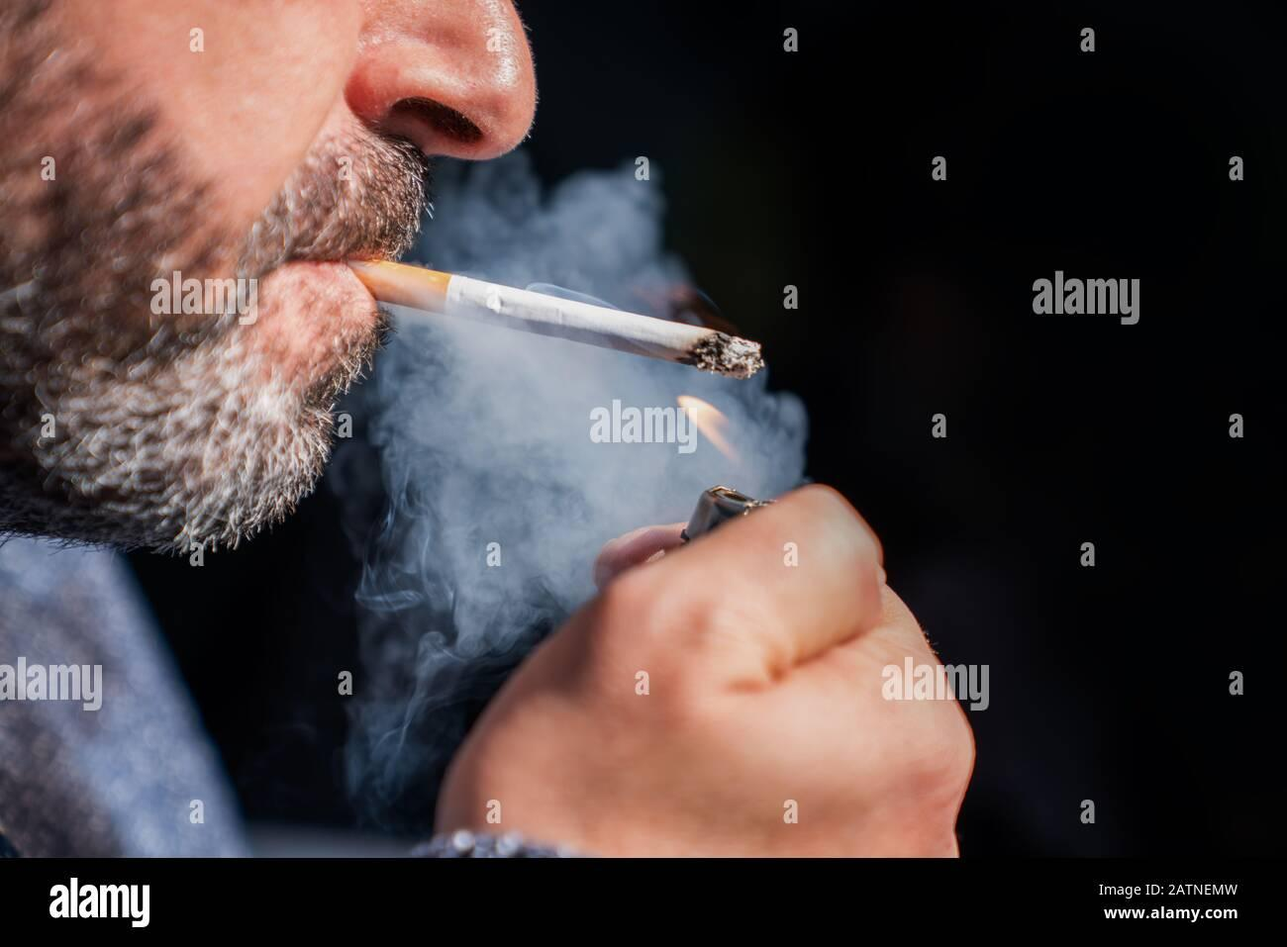cigarette: (348, 260, 762, 377)
